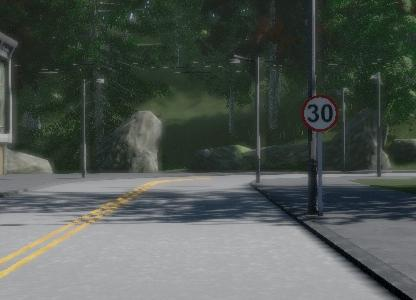Speed_30: (299, 94, 340, 134)
